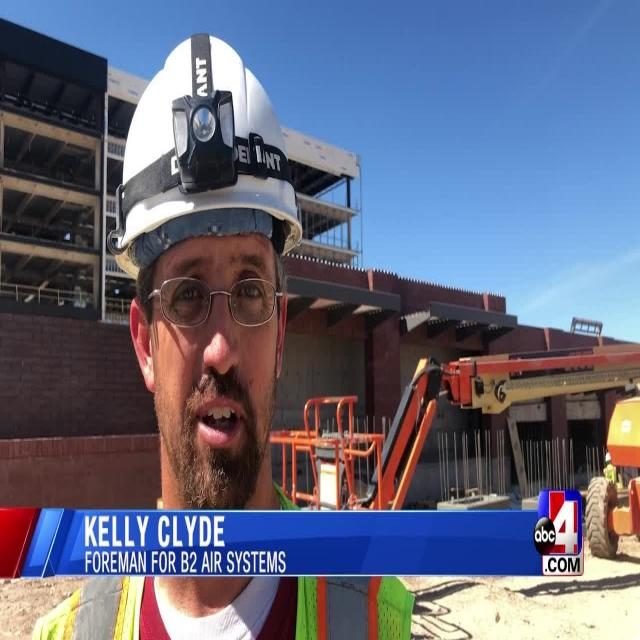Safety-Helmet: (109, 28, 305, 268)
